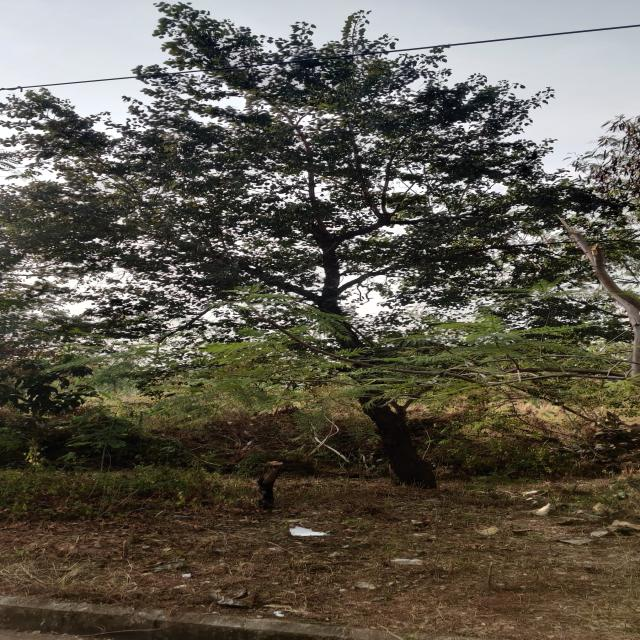Devakanchan tree: (27, 26, 582, 464)
